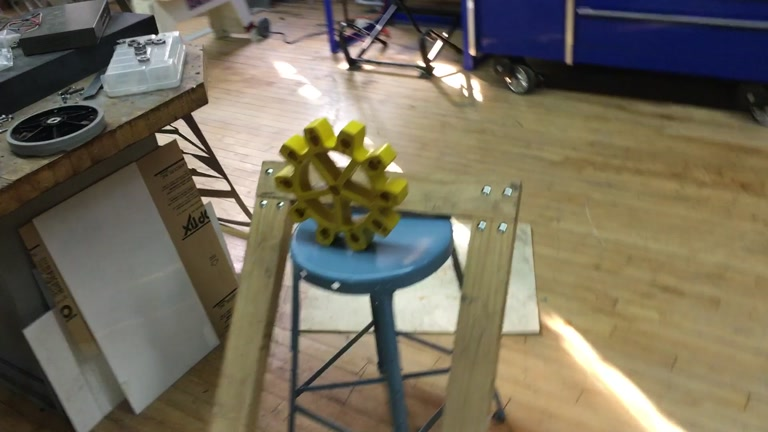gear: (273, 119, 409, 253)
